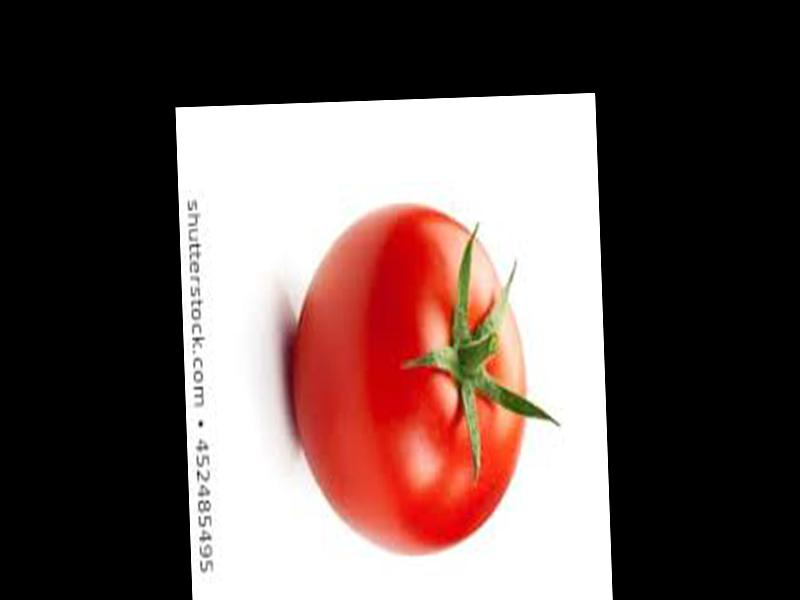Tomato: (285, 204, 531, 554)
